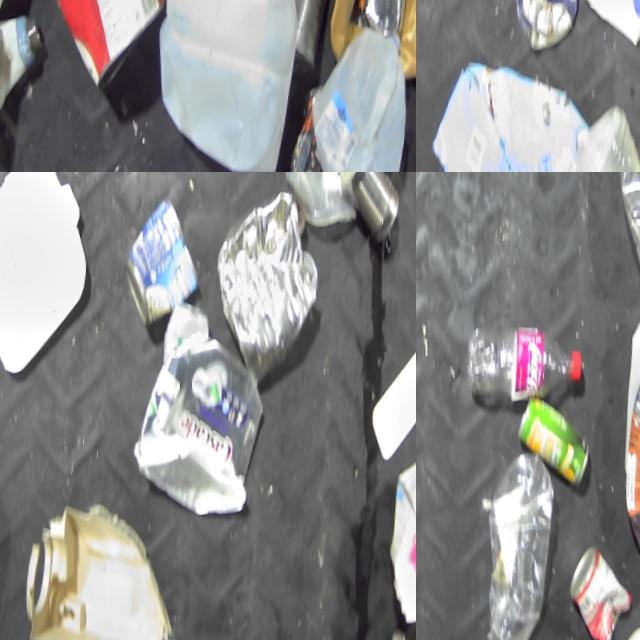can: (110, 191, 208, 333), (30, 0, 172, 95), (506, 399, 590, 489), (327, 172, 409, 258), (557, 547, 624, 640)
milk_jug: (126, 0, 316, 172), (282, 21, 408, 172), (366, 422, 416, 640)
non_white_jug: (310, 0, 416, 94)
plastic_bottle: (466, 448, 555, 640), (462, 314, 582, 416)
